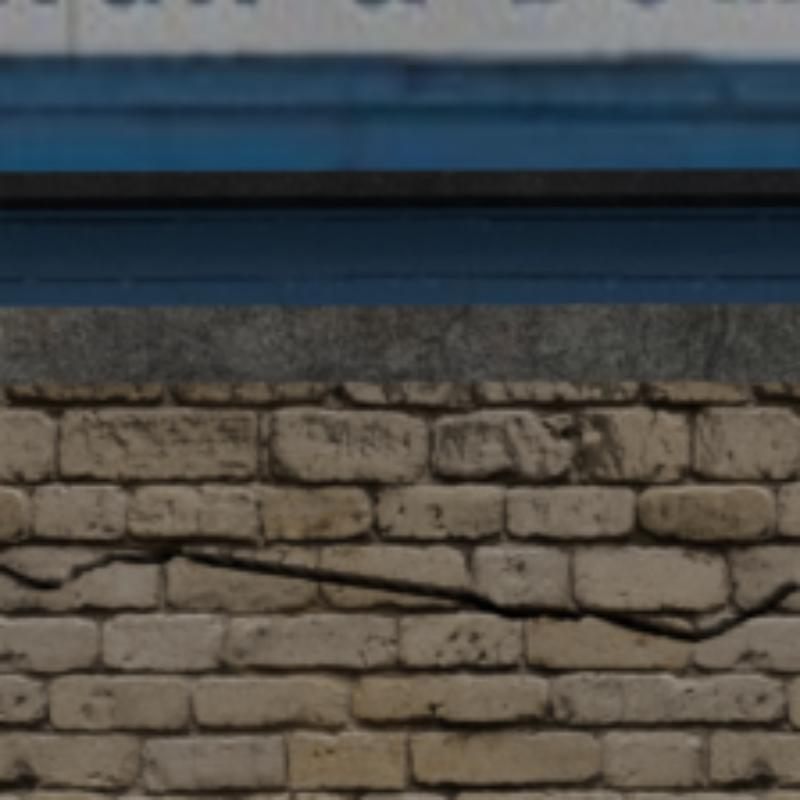pothole: (0, 550, 796, 639)
